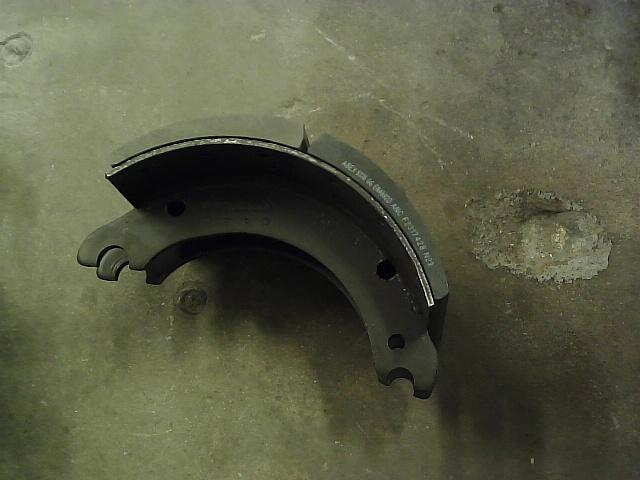brake-shoes: (77, 111, 451, 399)
